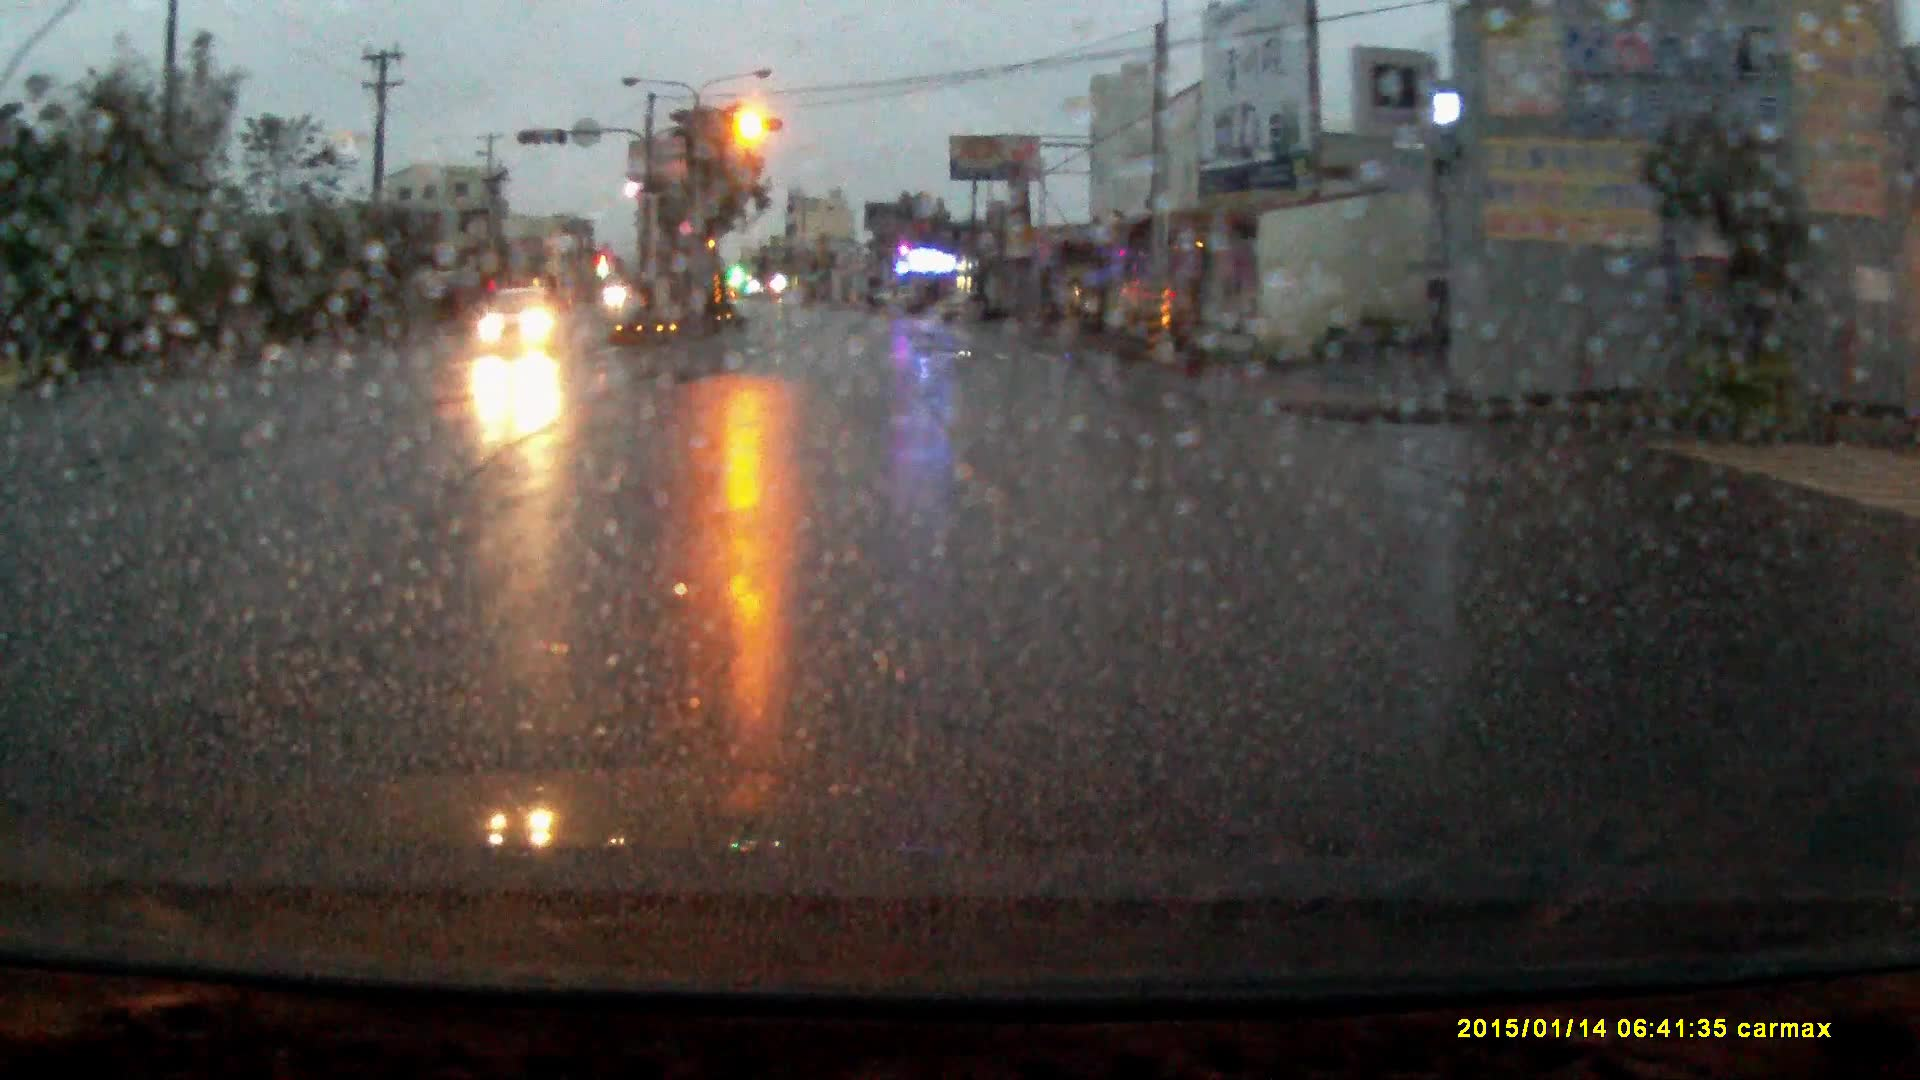vehicle: (477, 289, 564, 361)
